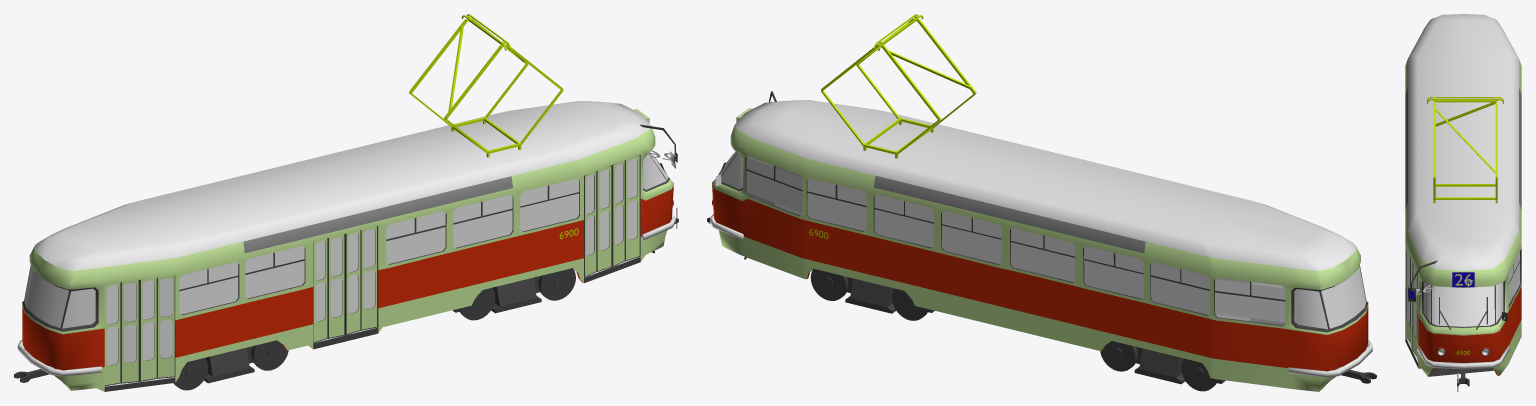
File: Tatra T3 SKF.fbx
The picture shows the model from 3 angles, left to right: view 1: azimuth 30°, elevation 25°; view 2: azimuth 150°, elevation 25°; view 3: azimuth 270°, elevation 25°; orthographic projection. The views are drawn at different scales.
Parts seen in each view (by area): view 1: Hull, Window_right, Pantograph, Rear Window, Doors.005, Doors.006, Doors.007, Doors.001, Doors.003, Doors.009, Doors.004, Doors.011 (+12 smaller); view 2: Hull, Window_left, Pantograph, Rear Window, Emergency Brake.001, Emergency Brake.003, Wheel.006, Wheel.002, Wheel.003, Wheel.007, Bumper.001, Front Window; view 3: Hull, Front Window, Pantograph, Bumper, Doors.008, Window_left, Number Sign, Doors.010, Mudguard, Right Mirror, Doors.011, Wipers (+3 smaller).
Part boxes in pixels (<box>): Hull: <box>22,101,673,391</box>; Window_right: <box>179,178,579,314</box>; Pantograph: <box>409,14,563,157</box>; Rear Window: <box>24,265,95,328</box>; Doors.005: <box>121,280,139,383</box>; Doors.006: <box>139,277,156,381</box>; Doors.007: <box>157,275,174,378</box>; Doors.001: <box>328,234,345,338</box>; Doors.003: <box>360,226,377,330</box>; Doors.009: <box>596,165,612,271</box>; Doors.004: <box>104,282,120,386</box>; Doors.011: <box>625,154,640,260</box>; Hull: <box>712,100,1368,391</box>; Window_left: <box>746,156,1285,325</box>; Pantograph: <box>821,14,976,158</box>; Rear Window: <box>1294,265,1366,329</box>; Emergency Brake.001: <box>1134,348,1185,384</box>; Emergency Brake.003: <box>845,278,895,313</box>; Wheel.006: <box>810,269,848,300</box>; Wheel.002: <box>1100,341,1137,371</box>; Wheel.003: <box>1181,358,1218,391</box>; Wheel.007: <box>892,288,928,320</box>; Bumper.001: <box>1288,340,1372,377</box>; Front Window: <box>718,151,742,189</box>; Hull: <box>1405,14,1521,375</box>; Front Window: <box>1423,282,1503,326</box>; Pantograph: <box>1427,97,1503,203</box>; Bumper: <box>1417,345,1509,369</box>; Doors.008: <box>1405,247,1409,341</box>; Window_left: <box>1508,252,1519,304</box>; Number Sign: <box>1452,270,1474,287</box>; Doors.010: <box>1412,261,1416,356</box>; Mudguard: <box>1428,368,1493,376</box>; Right Mirror: <box>1408,260,1437,301</box>; Doors.011: <box>1417,273,1418,361</box>; Wipers: <box>1439,297,1487,329</box>.
Bounding box in the file's own units: 1486 × 563 × 259.
